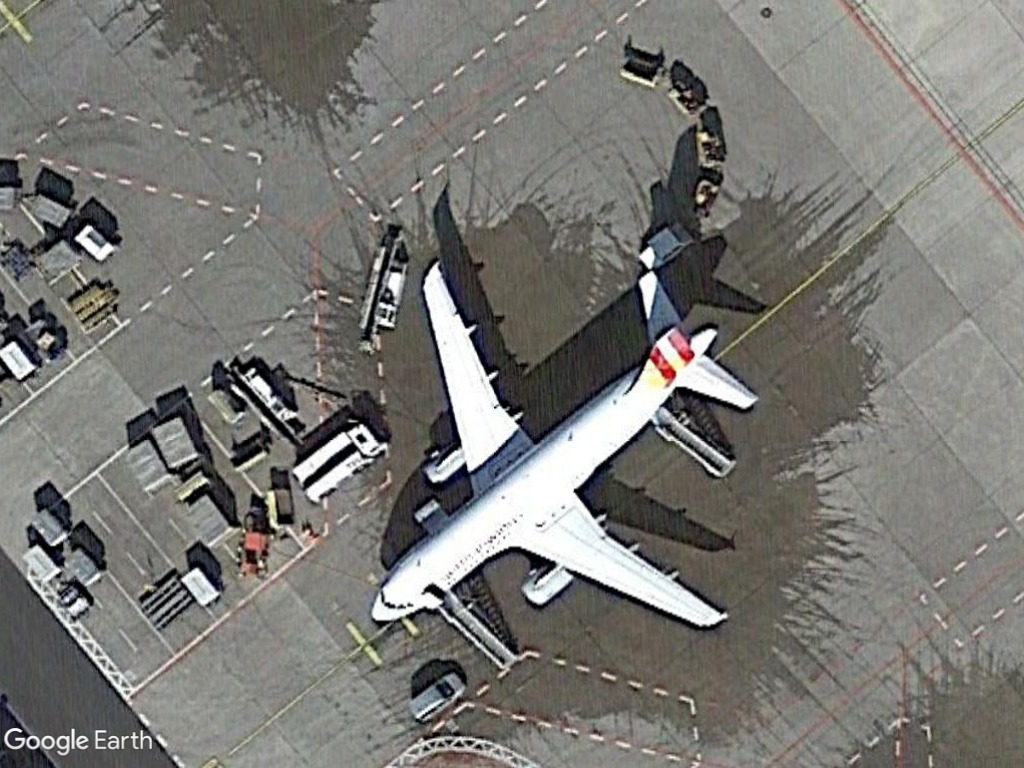airliner: (359, 260, 763, 641)
other: (291, 418, 386, 503)
stairtruck: (436, 595, 520, 676), (651, 407, 740, 482)
van: (405, 671, 468, 727)
